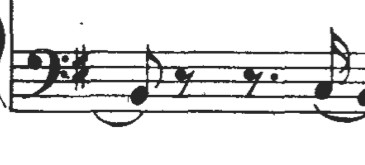bass_clef: (24, 40, 73, 105)
sharp: (70, 44, 95, 93)
